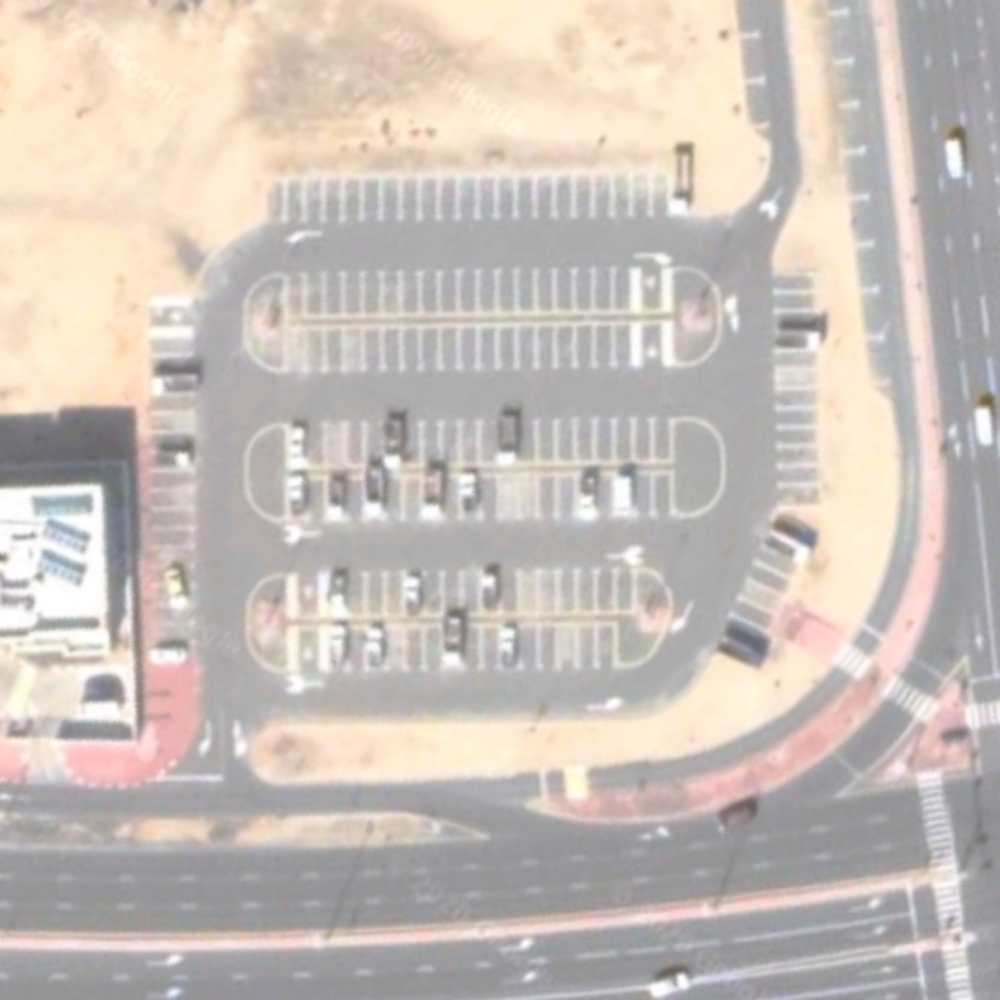parking: (150, 180, 820, 720)
